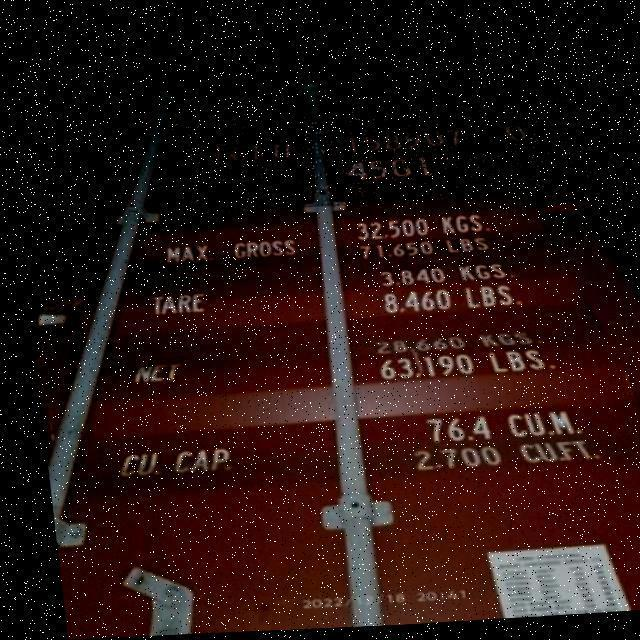container_number_h: (168, 102, 592, 216)
